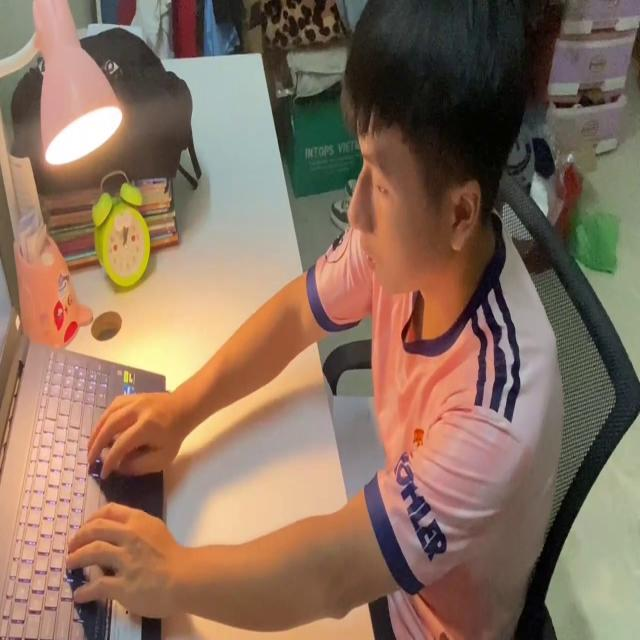book: (323, 371, 382, 504)
laptop: (0, 250, 166, 640)
student: (65, 3, 558, 640)
